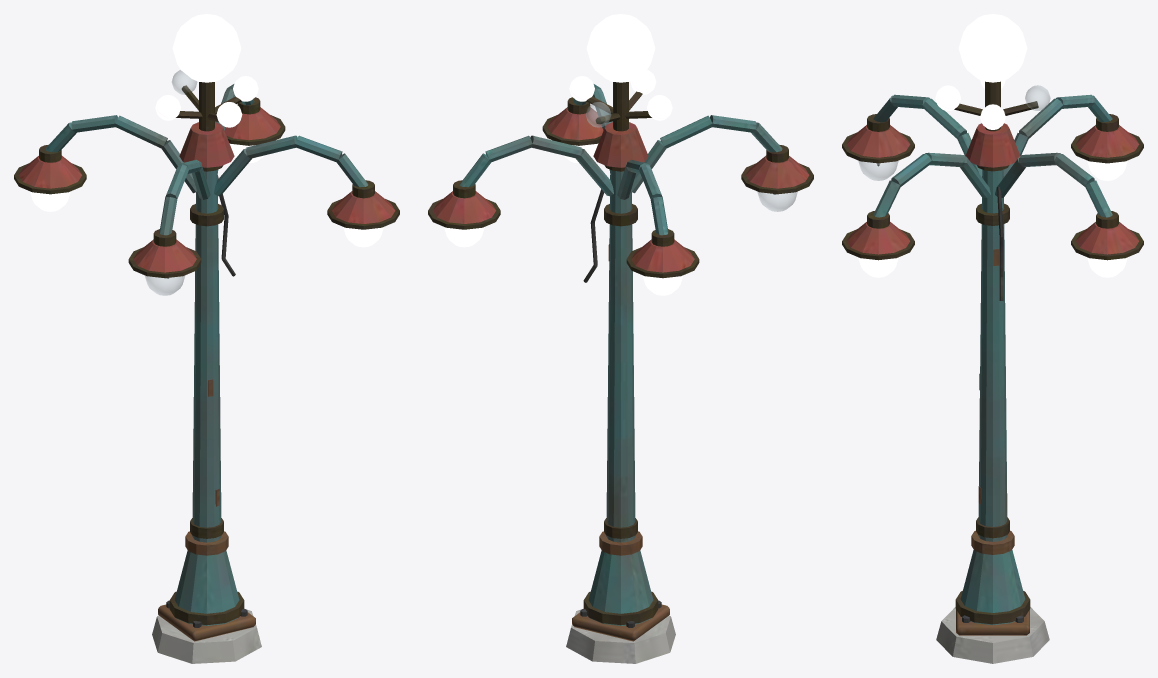
Rendered from CE12_carnival_lamp_post.glb.
3 renders of one model, left to right at view 1: azimuth 30°, elevation 25°; view 2: azimuth 150°, elevation 25°; view 3: azimuth 270°, elevation 25°, orthographic.
Visible parts, largest first — view 1: Octagonal foundation; view 2: Octagonal foundation; view 3: Octagonal foundation.
Part boxes in pixels (x1,y1,x2,y2): Octagonal foundation: (14, 14, 399, 663); Octagonal foundation: (428, 14, 813, 663); Octagonal foundation: (842, 14, 1143, 663).
Size of the model in its own units: 1.76 by 4 by 1.76.
Materials: 10 (7 with a texture image).
